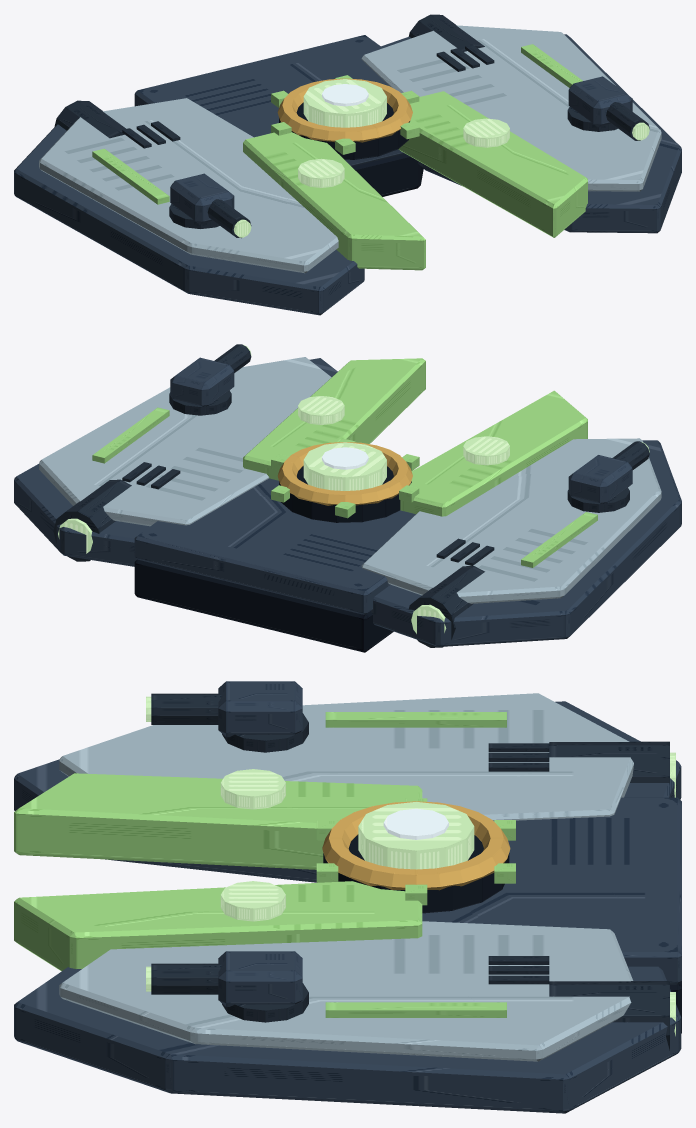
File: boss-04-splitter.glb
3 renders of one model, top to bottom at view 1: azimuth 30°, elevation 25°; view 2: azimuth 150°, elevation 25°; view 3: azimuth 270°, elevation 25°, orthographic. The views are drawn at different scales.
Parts seen in each view (by area): view 1: Boss_Ship_Geometry, Core_Geometry, Turret_R_Geometry, Turret_L_Geometry; view 2: Boss_Ship_Geometry, Core_Geometry, Turret_R_Geometry, Turret_L_Geometry; view 3: Boss_Ship_Geometry, Core_Geometry, Turret_L_Geometry, Turret_R_Geometry.
Part boxes in pixels (<box>): Boss_Ship_Geometry: <box>14,14,681,315</box>; Core_Geometry: <box>271,75,419,159</box>; Turret_R_Geometry: <box>567,76,649,140</box>; Turret_L_Geometry: <box>169,173,251,238</box>; Boss_Ship_Geometry: <box>14,357,681,652</box>; Core_Geometry: <box>271,438,419,522</box>; Turret_R_Geometry: <box>169,344,251,415</box>; Turret_L_Geometry: <box>567,441,649,512</box>; Boss_Ship_Geometry: <box>14,693,681,1113</box>; Core_Geometry: <box>316,798,515,913</box>; Turret_L_Geometry: <box>146,681,308,752</box>; Turret_R_Geometry: <box>146,951,308,1022</box>.
Size of the model in its own units: 7.4 by 1.26 by 5.55.
8 materials, 8 textured.
